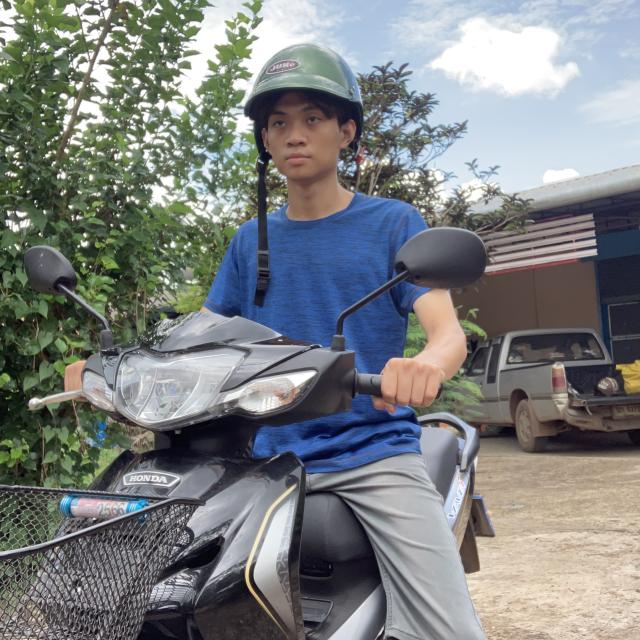illegal_helmet: (241, 32, 371, 312)
